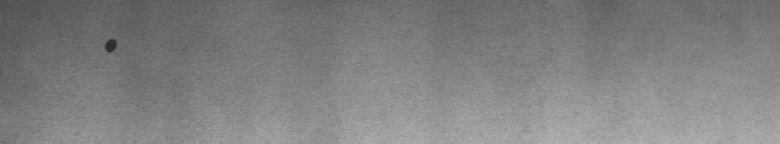fi: (99, 29, 123, 60)
